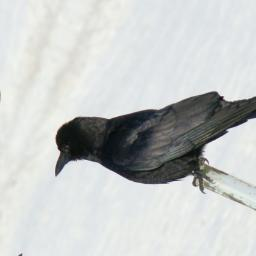Crow: (39, 12, 256, 256)
